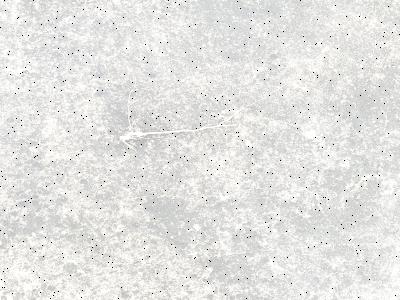Root: (120, 124, 237, 142)
